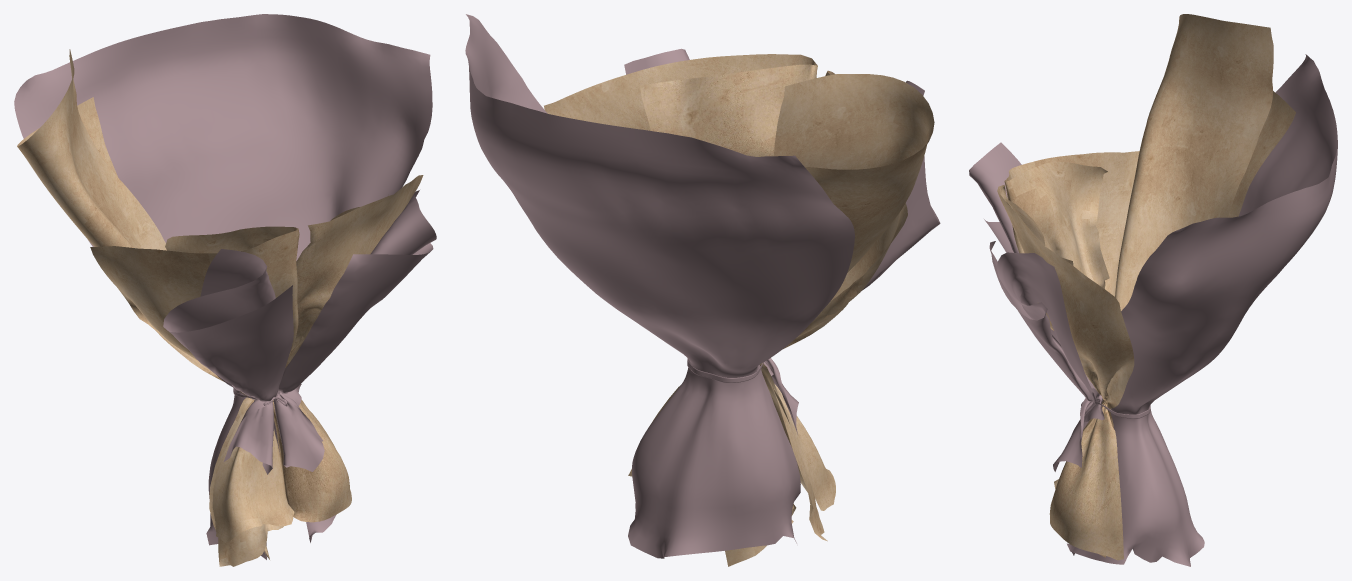
File: Boquet.classic.glb
3 views of the same model, side by side, from view 1: azimuth 30°, elevation 25°; view 2: azimuth 150°, elevation 25°; view 3: azimuth 270°, elevation 25° (orthographic). The views are drawn at different scales.
Parts seen in each view (by area): view 1: Empty; view 2: Empty; view 3: Empty.
Boxes of the visible parts, bbox=[...] form: Empty: bbox=[14, 14, 436, 566]; Empty: bbox=[465, 14, 940, 566]; Empty: bbox=[969, 14, 1337, 566].
Bounding box in the file's own units: 13.44 × 15.22 × 10.72.
2 materials, 1 textured.
